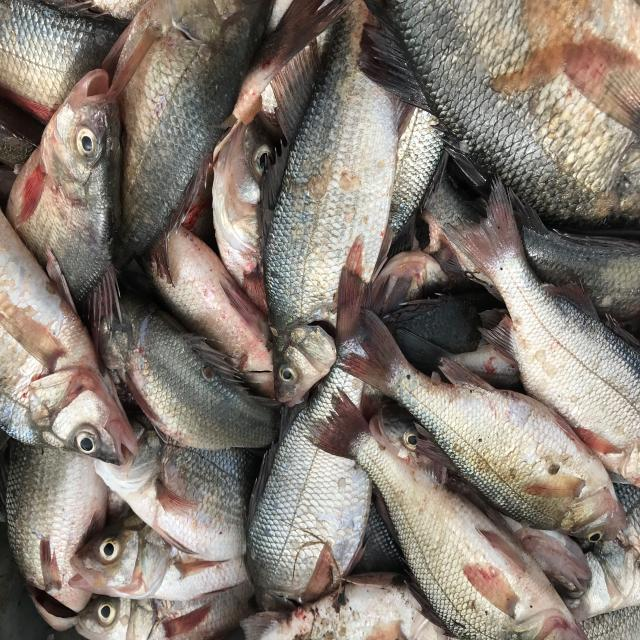Perch - White: (312, 393, 585, 638), (342, 310, 625, 538), (264, 2, 405, 395), (248, 240, 371, 603), (0, 212, 136, 463), (6, 68, 122, 302), (71, 510, 171, 598)
